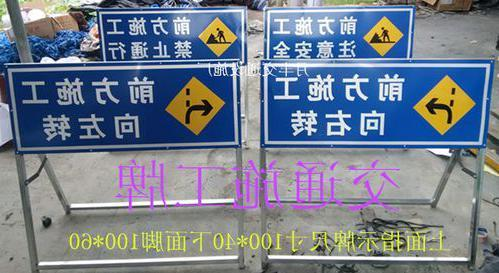sign: (4, 63, 240, 148), (263, 62, 491, 144), (99, 11, 246, 66), (267, 9, 413, 59)
